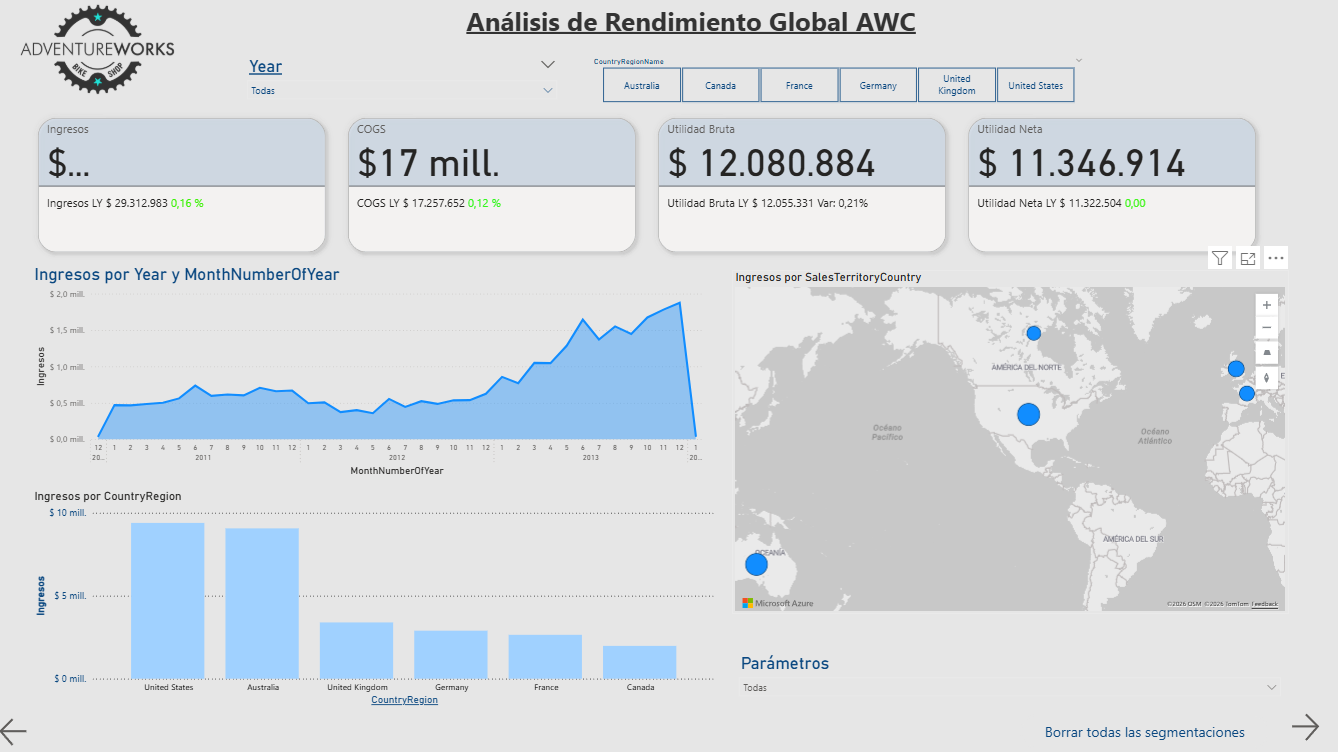

The dashboard page shown, as its layout file describes it:
{"tool":"powerbi","page":{"name":"Página 1","canvas":[1920,1080],"ordinal":1},"visuals":[{"type":"shape","box":[0,0,1920,1080],"z":0},{"type":"textbox","box":[580,0,826,78],"z":1000},{"type":"image","box":[0,0,291.4,144.3],"z":2000},{"type":"cardVisual","fields":{"Data":["Medidas.Ingresos","Medidas.COGS","Medidas.Utilidad Bruta","Medidas.Utilidad Neta"]},"box":[43.3,153.3,1776.7,226.7],"z":3000},{"type":"slicer","fields":{"Values":["DimDate.Year"]},"box":[348.6,77.1,462.9,75.7],"z":4000},{"type":"azureMap","fields":{"Size":["Medidas.Ingresos"],"Category":["DimCustomer.SalesTerritoryCountry"]},"box":[1051.7,386.7,795,491.7],"z":5000},{"type":"slicer","fields":{"Values":["ParMedidas.ParMedidas"]},"box":[1052,930,794,84],"z":6000},{"type":"slicer","fields":{"Values":["DimCustomer.CountryRegionName"]},"box":[841.7,76.7,723.3,76.7],"z":7000},{"type":"lineChart","fields":{"Y":["Medidas.Ingresos"],"Category":["DimDate.Year","DimDate.MonthNumberOfYear","DimDate.Quarter"]},"box":[50,380,964,306],"z":8000},{"type":"clusteredColumnChart","fields":{"Y":["Medidas.Ingresos"],"Category":["DimCustomer.CountryRegionName"]},"box":[50,700,984,314],"z":9000},{"type":"actionButton","box":[0,1014,50,66],"z":10000},{"type":"actionButton","box":[1820,1001.7,100,78.3],"z":11000},{"type":"actionButton","box":[1463.3,1021.7,356.7,50],"z":12000}]}

Visuals, with their boxes in screenshot pixels (x1, y1, x2, y2), scaled from the page's 1920x1080 canvas onto the 1338x752 screenshot:
shape: crop(0, 0, 1337, 751)
textbox: crop(404, 0, 980, 54)
image: crop(0, 0, 203, 100)
cardVisual - Medidas.Ingresos x Medidas.COGS: crop(30, 107, 1268, 265)
slicer - DimDate.Year: crop(243, 54, 566, 106)
azureMap - Medidas.Ingresos x DimCustomer.SalesTerritoryCountry: crop(733, 269, 1287, 612)
slicer - ParMedidas.ParMedidas: crop(733, 648, 1286, 706)
slicer - DimCustomer.CountryRegionName: crop(587, 53, 1091, 107)
lineChart - Medidas.Ingresos x DimDate.Year: crop(35, 265, 707, 478)
clusteredColumnChart - Medidas.Ingresos x DimCustomer.CountryRegionName: crop(35, 487, 721, 706)
actionButton: crop(0, 706, 35, 751)
actionButton: crop(1268, 697, 1337, 751)
actionButton: crop(1020, 711, 1268, 746)
